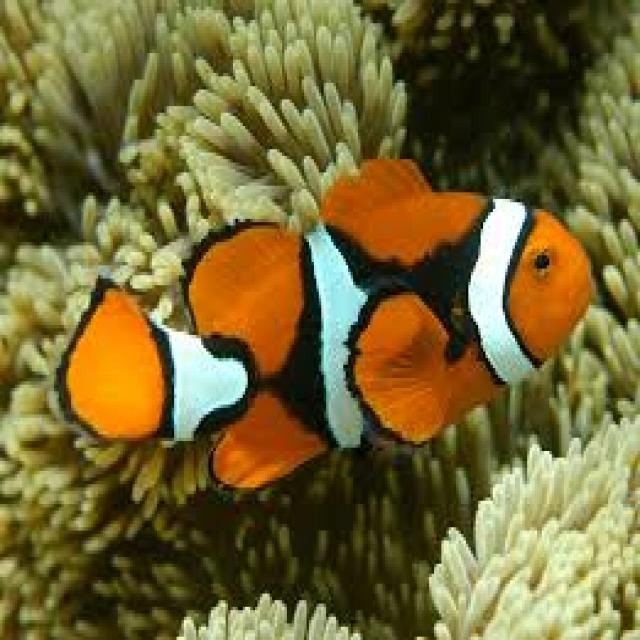Amphiprion-percula: (34, 152, 596, 539)
